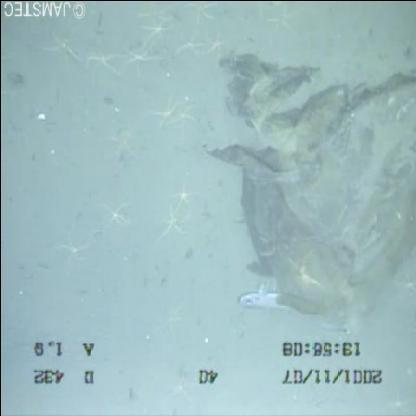Bio: (223, 275, 302, 320)
Rác: (206, 26, 415, 328)
